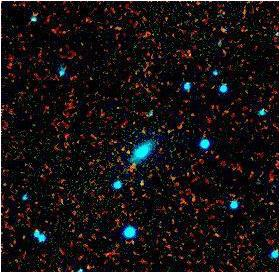star: (130, 168, 160, 198)
